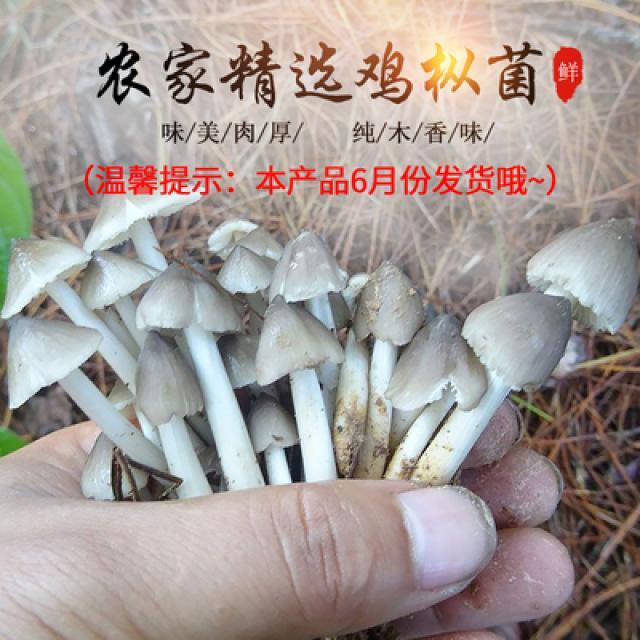Collybia albuminosa: (0, 191, 640, 482)
